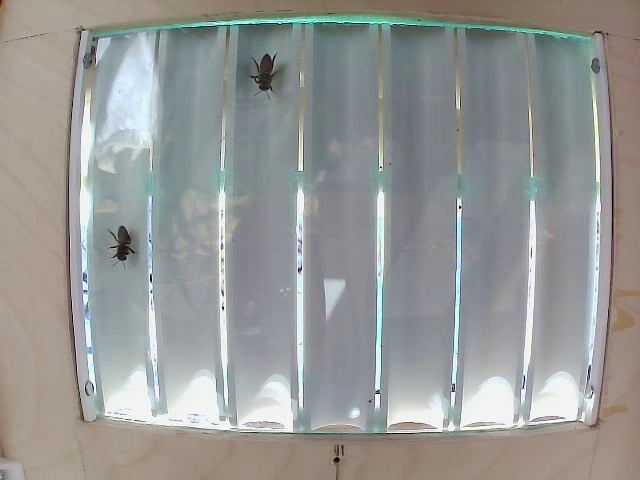bee: (97, 219, 150, 275), (250, 51, 289, 123)
